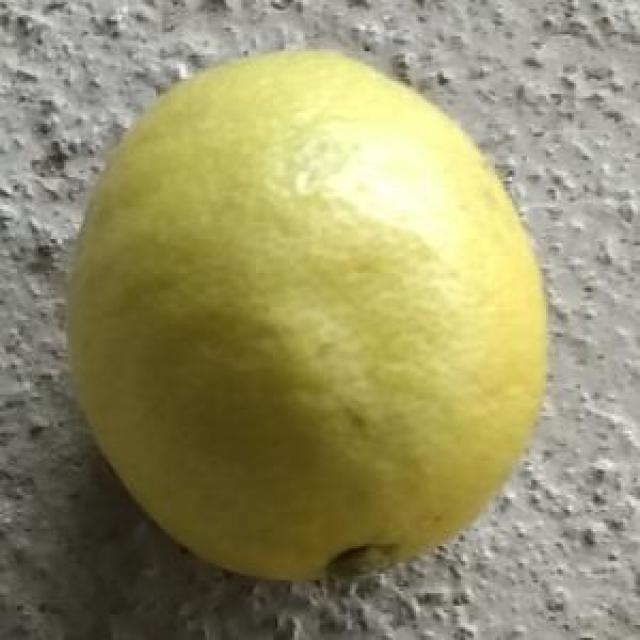lemon: (66, 45, 550, 589)
